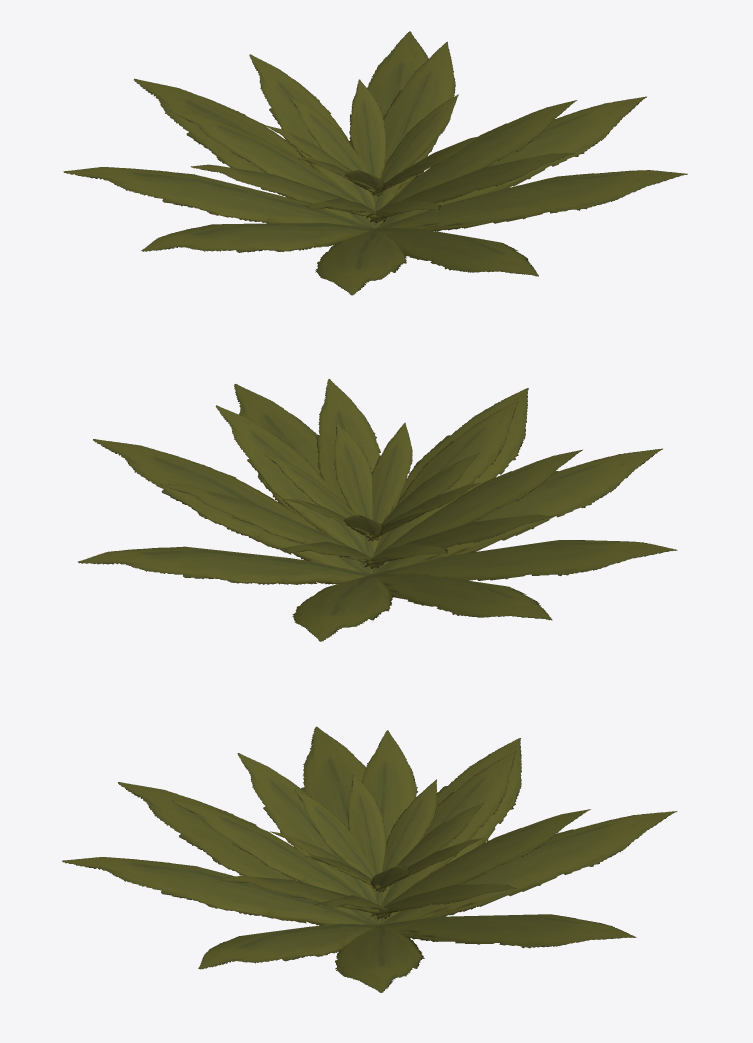
File: LeafShrub.fbx
3 renders of one model, top to bottom at view 1: azimuth 30°, elevation 25°; view 2: azimuth 150°, elevation 25°; view 3: azimuth 270°, elevation 25°, orthographic. The views are drawn at different scales.
Visible parts, largest first — view 1: pPlane78; view 2: pPlane78; view 3: pPlane78.
Part boxes in pixels (box(x1,y1,x2,y2)): pPlane78: box(63, 31, 687, 295); pPlane78: box(78, 379, 677, 641); pPlane78: box(62, 726, 677, 992).
Bounding box in the file's own units: 1.97 × 0.3736 × 1.95.
